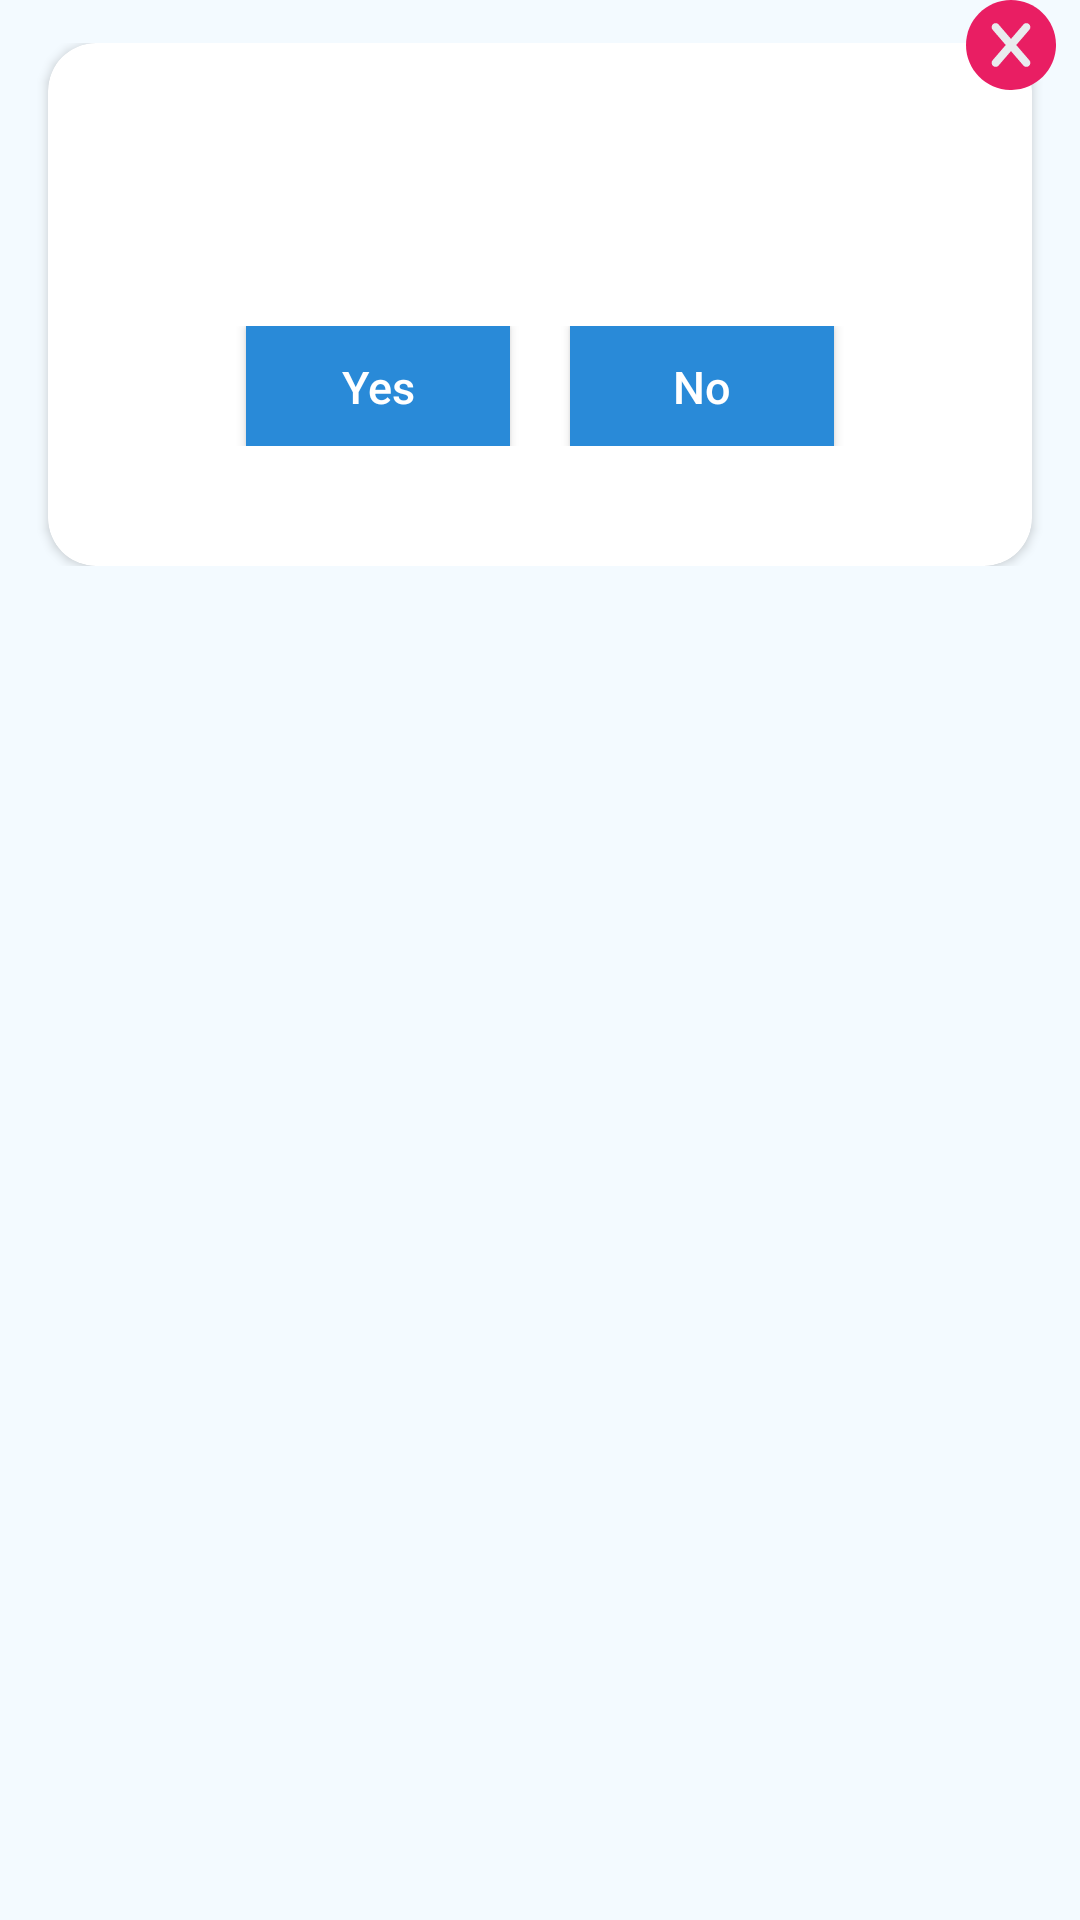

Icons on this 1080w x 1920h Android screen, each with the point to tap as (x,y):
cancel: (1011,45)
